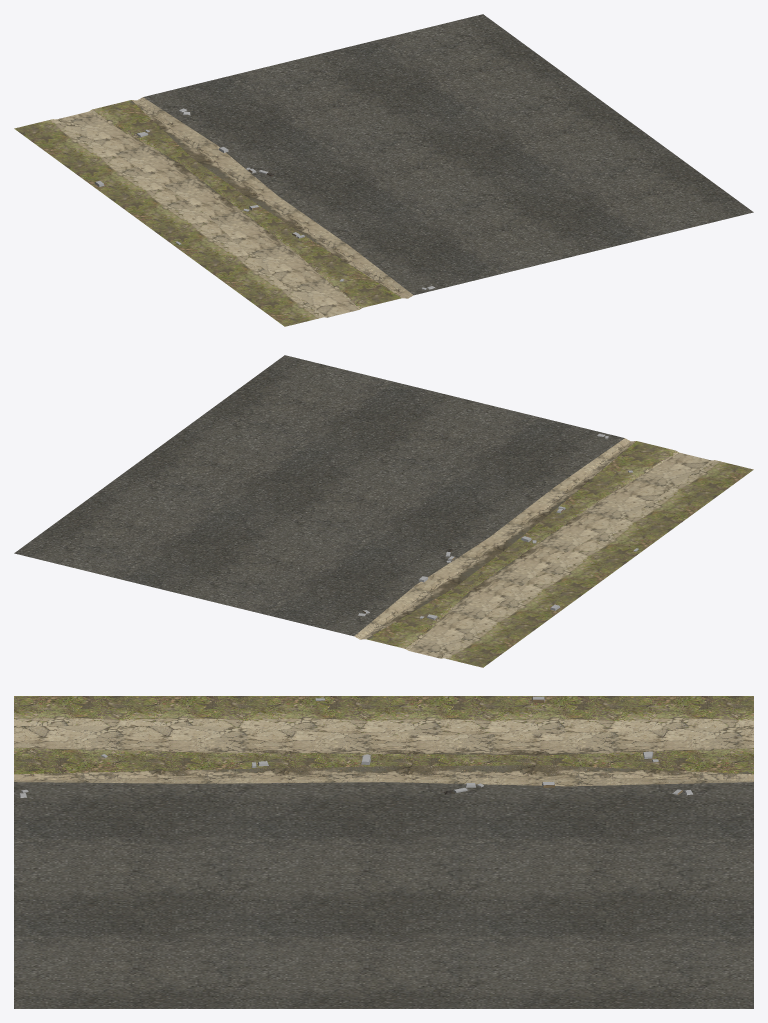
File: bz_road_pavement_02.fbx
3 renders of one model, top to bottom at view 1: azimuth 30°, elevation 25°; view 2: azimuth 150°, elevation 25°; view 3: azimuth 270°, elevation 25°, orthographic. The views are drawn at different scales.
Visible parts, largest first — view 1: bz_road_02; view 2: bz_road_02; view 3: bz_road_02.
Boxes of the visible parts, left/top/right/bottom form: bz_road_02: left=14, top=14, right=753, bottom=326; bz_road_02: left=14, top=355, right=753, bottom=667; bz_road_02: left=14, top=696, right=753, bottom=1008.
Size of the model in its own units: 8 by 0.0838 by 8.
